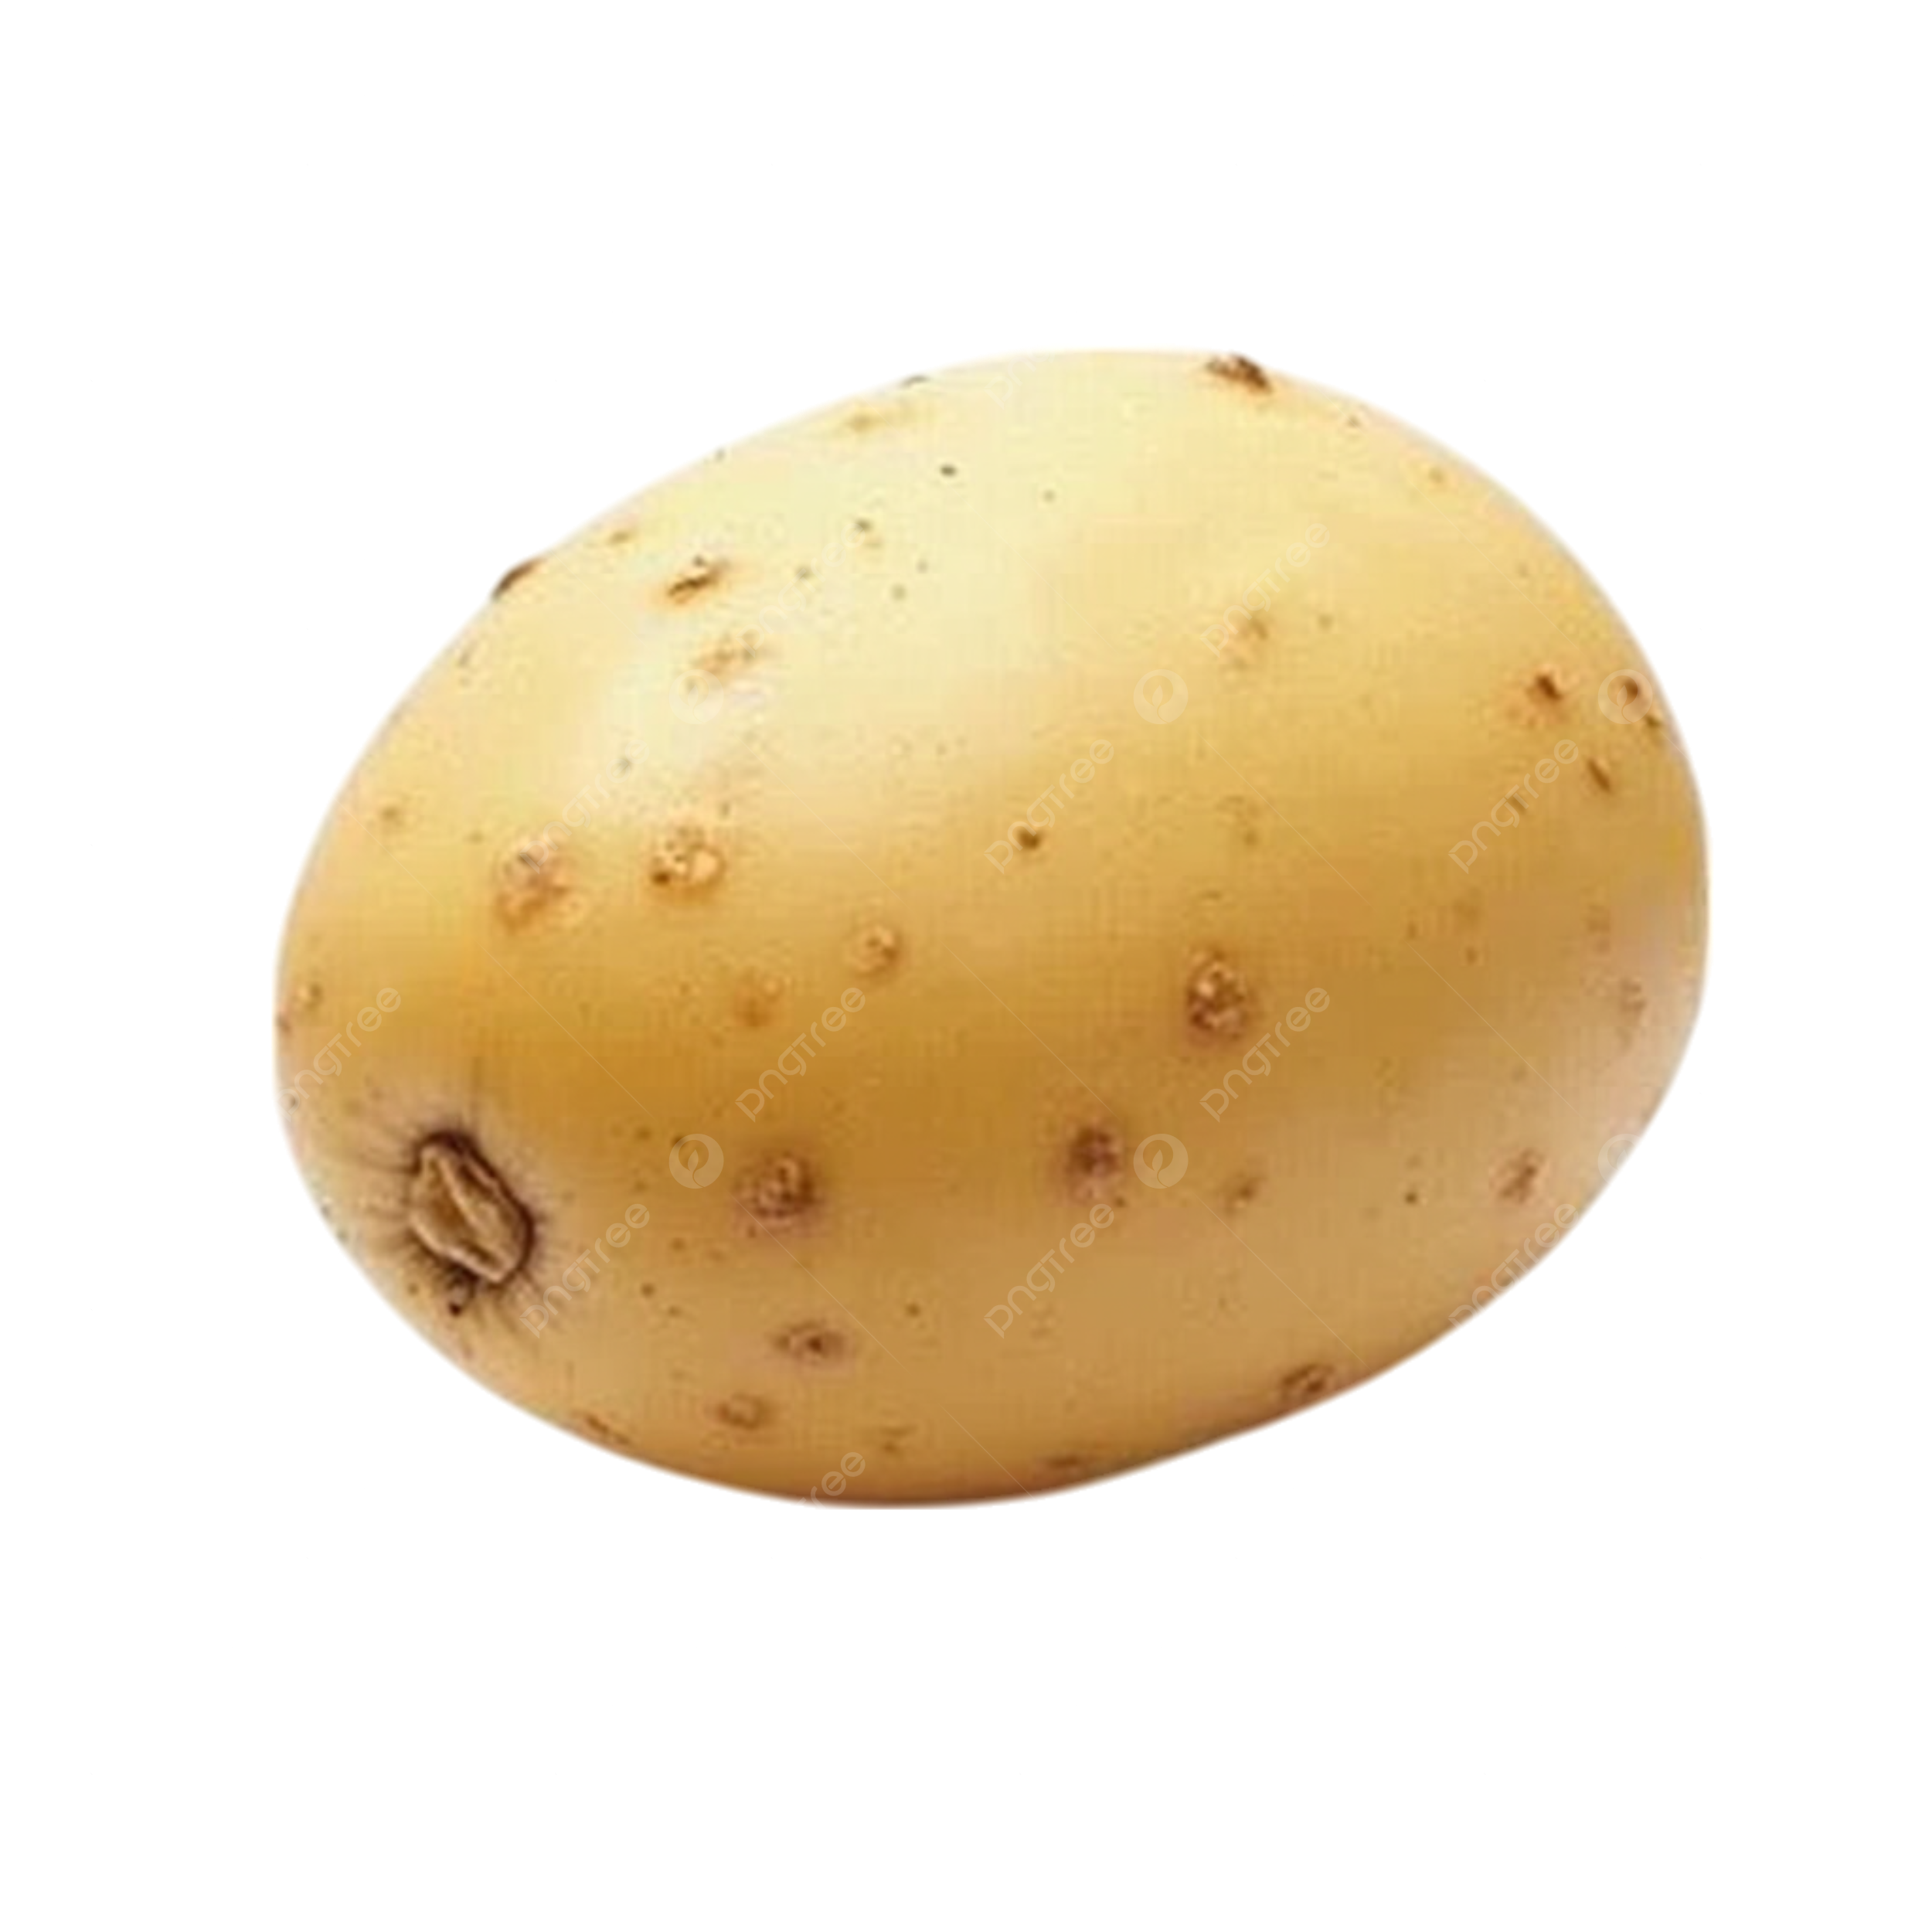potato: (202, 336, 1904, 1596)
